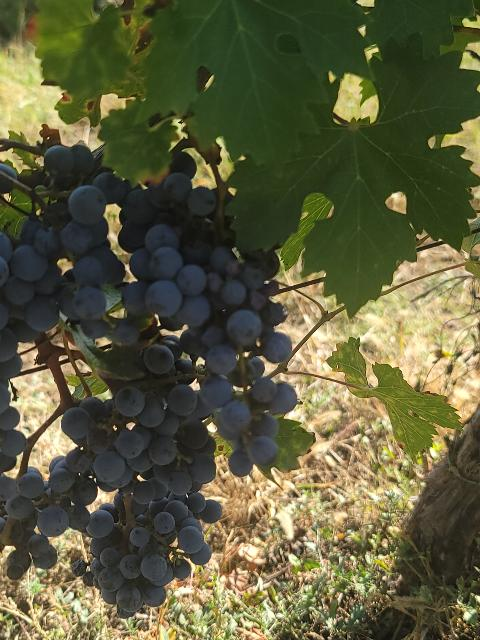grapes: (122, 160, 298, 475), (72, 391, 221, 615), (0, 172, 124, 332), (0, 446, 98, 579)
